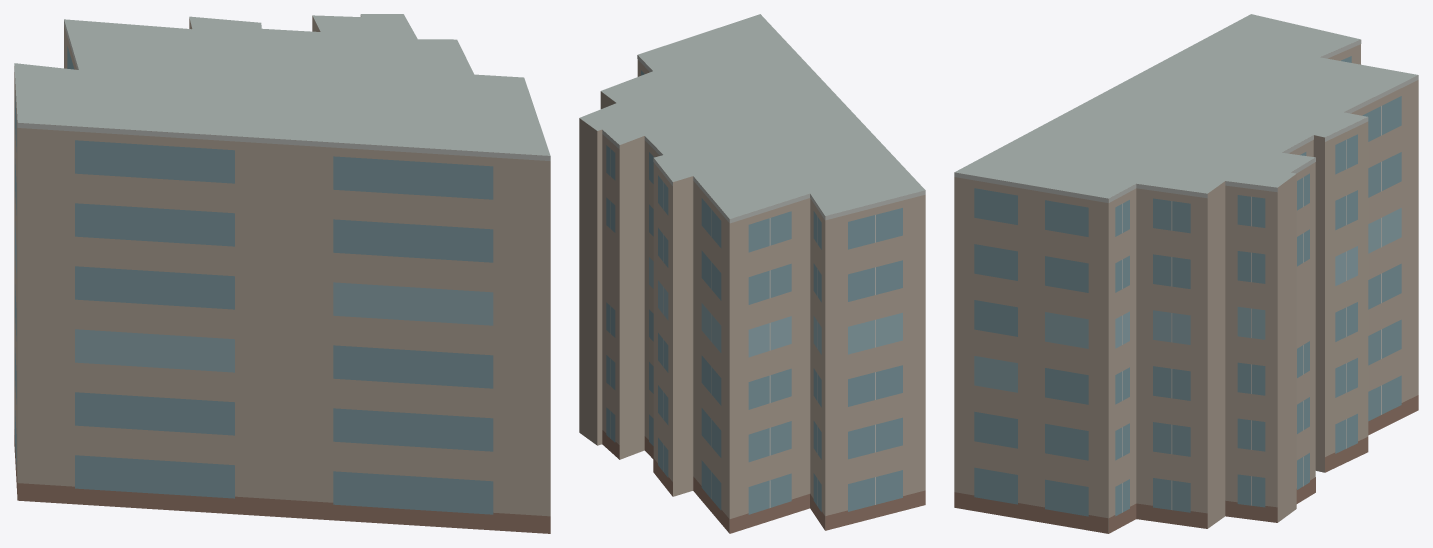
File: survey-upis-32652153.glb
3 views of the same model, side by side, from view 1: azimuth 30°, elevation 25°; view 2: azimuth 150°, elevation 25°; view 3: azimuth 270°, elevation 25° (orthographic). The views are drawn at different scales.
Parts seen in each view (by area): view 1: survey-upis-32652153.tmp; view 2: survey-upis-32652153.tmp; view 3: survey-upis-32652153.tmp.
Part boxes in pixels (x1,y1,x2,y2): survey-upis-32652153.tmp: [14, 14, 550, 533]; survey-upis-32652153.tmp: [579, 14, 925, 533]; survey-upis-32652153.tmp: [954, 14, 1418, 533].
Bounding box in the file's own units: 21.02 × 17.8 × 22.35.
